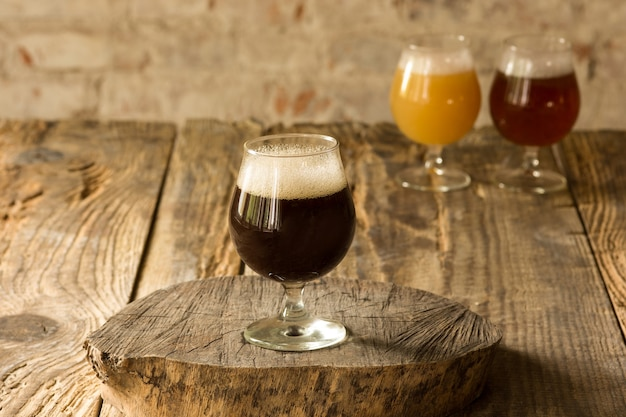alcohol: (228, 136, 359, 352), (492, 36, 583, 196), (391, 34, 482, 190)
